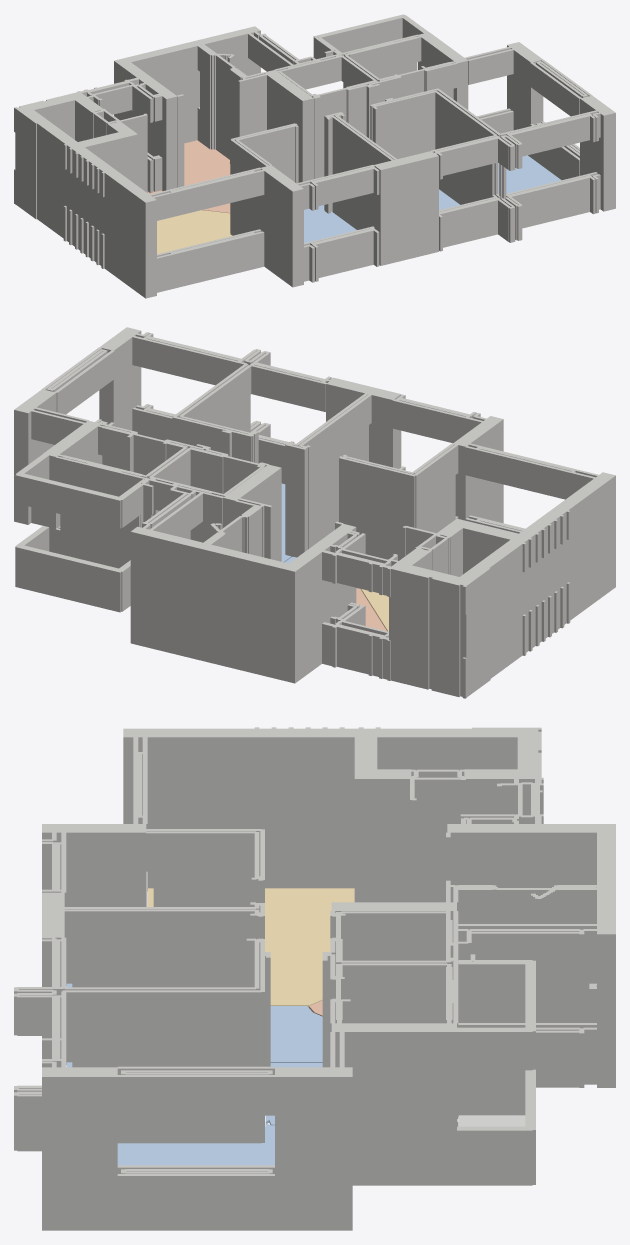
3 views of the same model, one above another, from view 1: azimuth 30°, elevation 25°; view 2: azimuth 150°, elevation 25°; view 3: azimuth 270°, elevation 25° (orthographic). The views are drawn at different scales.
Parts seen in each view (by area): view 1: walls, room:living:6, room:kitchen:0, room:bedroom:8, room:bedroom:7; view 2: walls, room:living:6; view 3: walls, room:living:6, room:bedroom:8, room:bedroom:7, room:ledge:2.
Part boxes in pixels (box(x1,y1,x2,y2)): walls: box(14, 14, 615, 298); room:living:6: box(157, 210, 232, 254); room:kitchen:0: box(147, 140, 230, 213); room:bedroom:8: box(498, 155, 561, 193); room:bedroom:7: box(304, 205, 356, 242); walls: box(14, 327, 615, 698); room:living:6: box(361, 589, 388, 631); walls: box(14, 727, 615, 1230); room:living:6: box(148, 888, 354, 1007); room:bedroom:8: box(117, 1123, 274, 1165); room:bedroom:7: box(66, 983, 322, 1062); room:ledge:2: box(458, 1115, 525, 1126).
Size of the model in its own units: 13.67 by 2.8 by 9.94.
